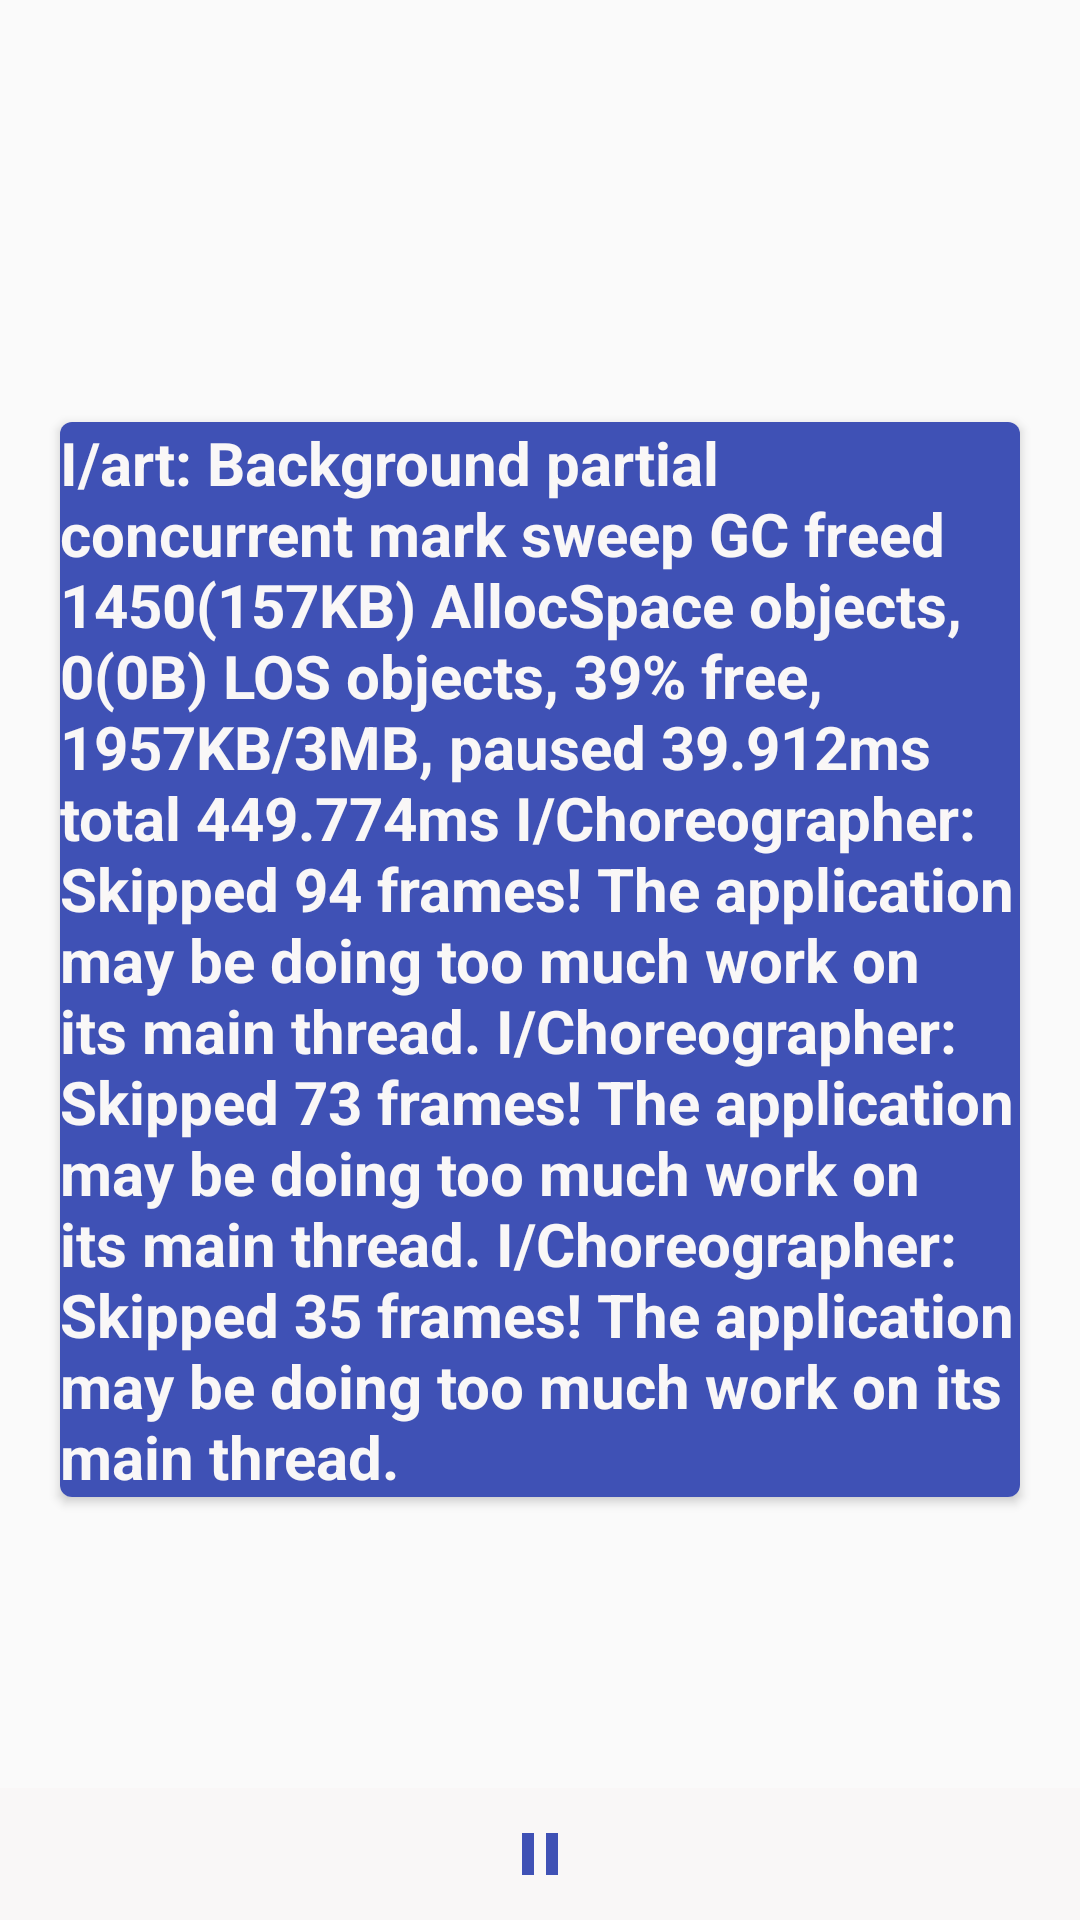

Named icons in this screenshot (1080 × 1920) and their centers, (x,y):
pause: (540,1854)
